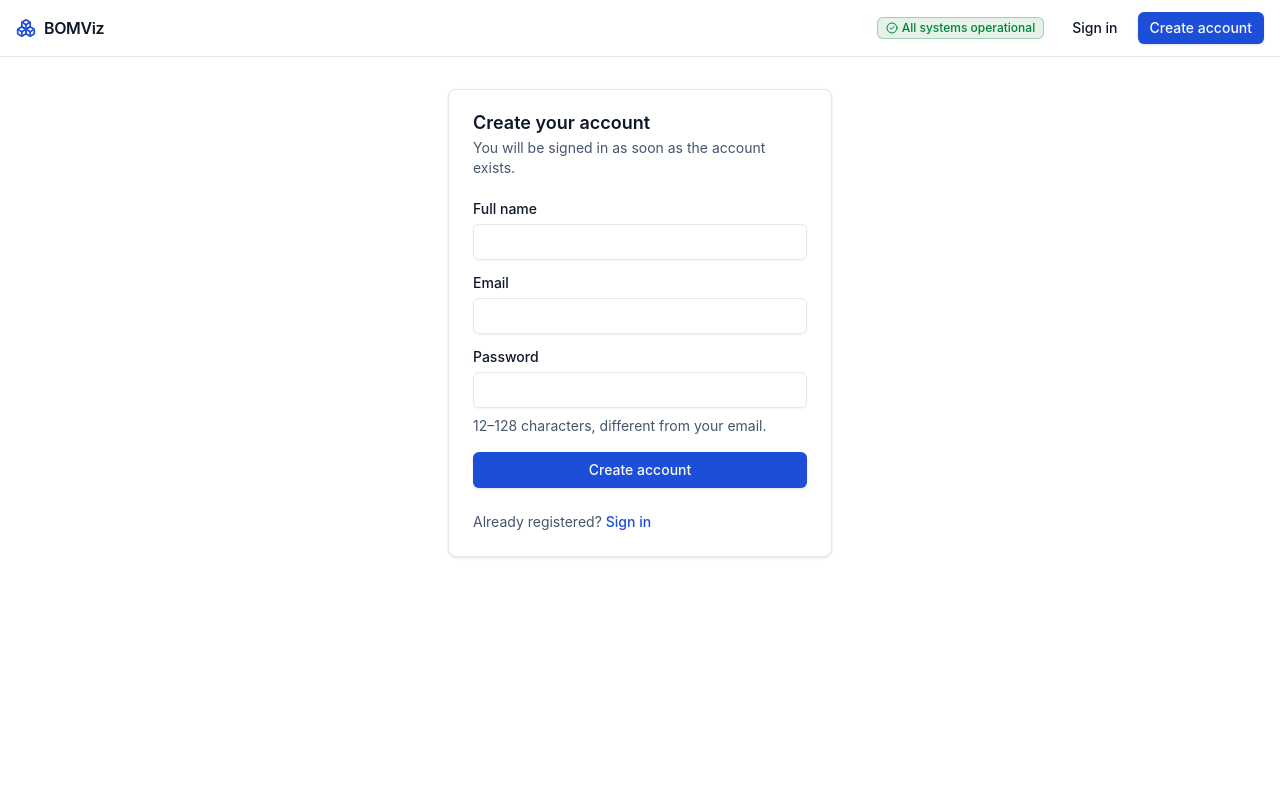
Test: RegisterPage › registers, signs in with the same credentials and lands on the workspaces page
The image size is (1280, 800).
Type "  Ada Lovelace " into the field labelled "Full name". click: (640, 242)
box: [473, 224, 807, 260]
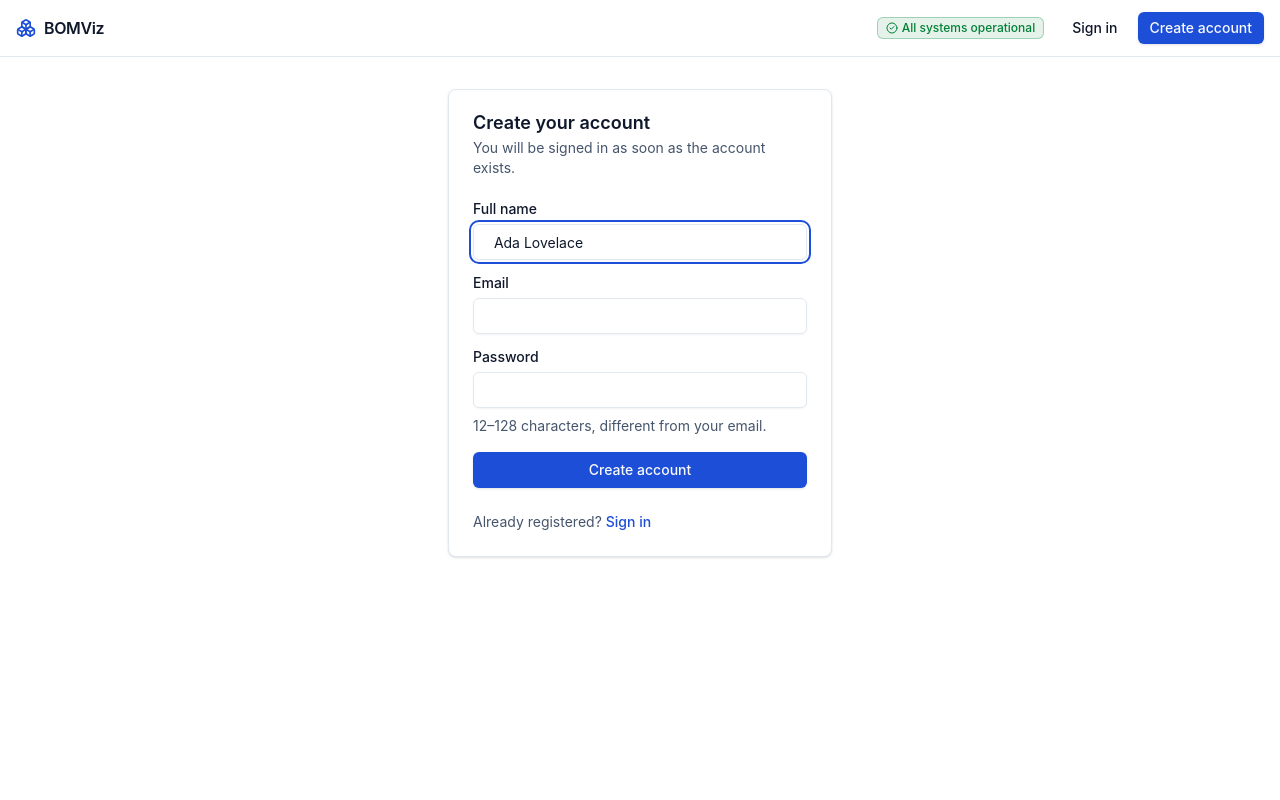
Type "ada@example.com" into the field labelled "Email". click: (640, 316)
box: [473, 298, 807, 334]
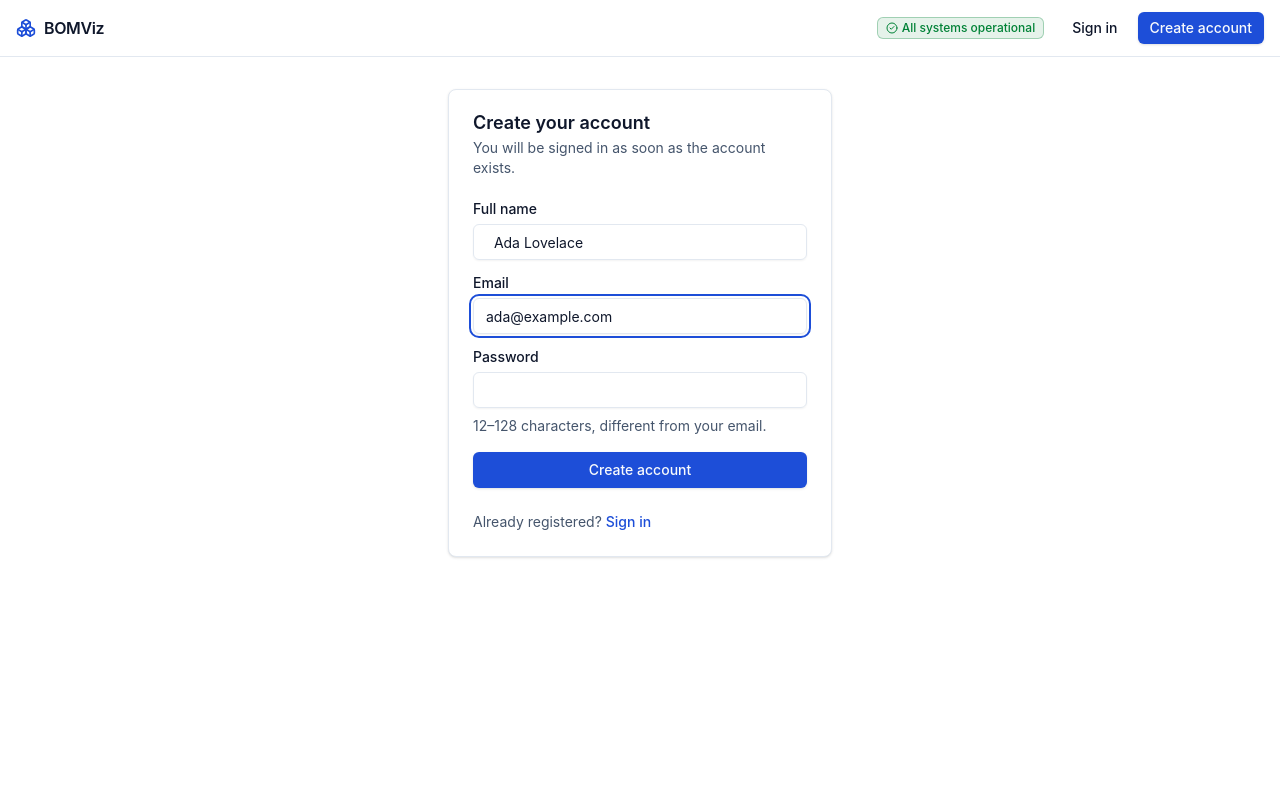
Type "correct horse battery" into the password field labelled "Password". click: (640, 390)
box: [473, 372, 807, 408]
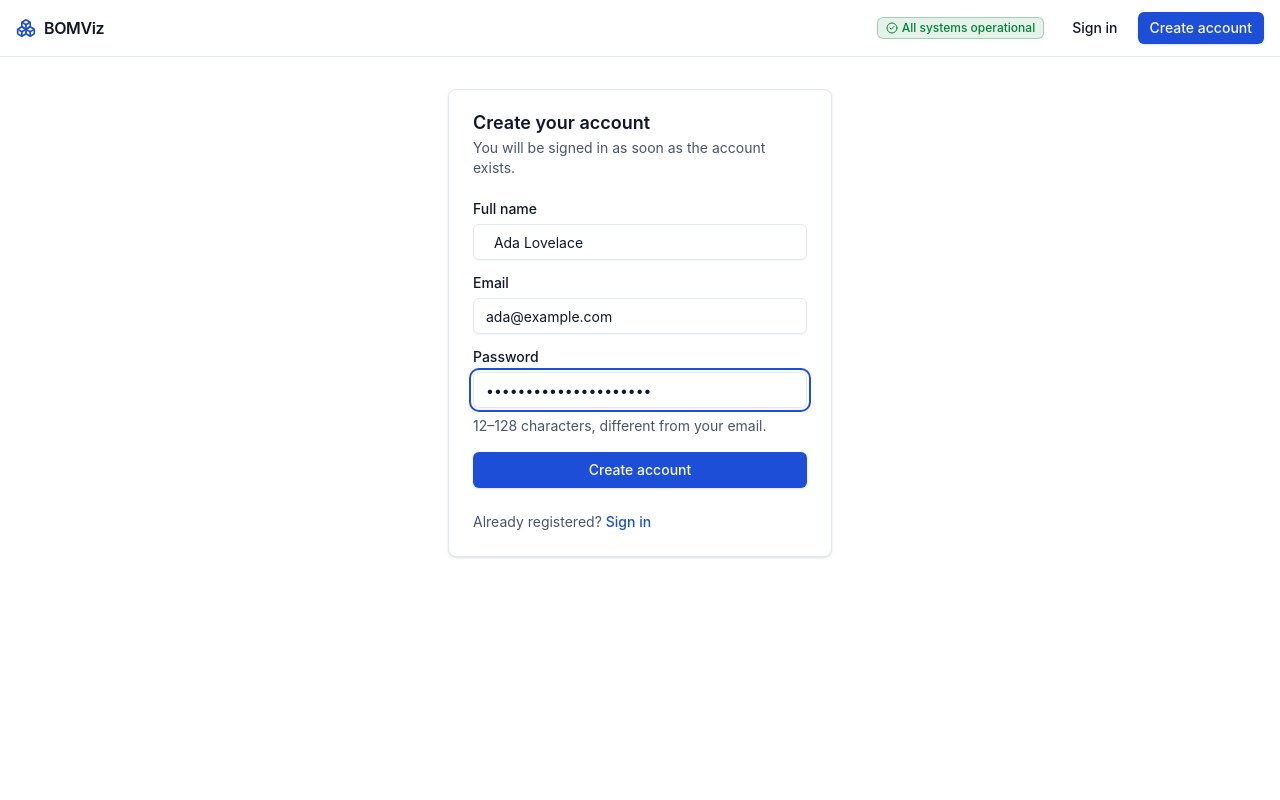
Click the button "Create account". click: (640, 470)
box: [473, 452, 807, 488]
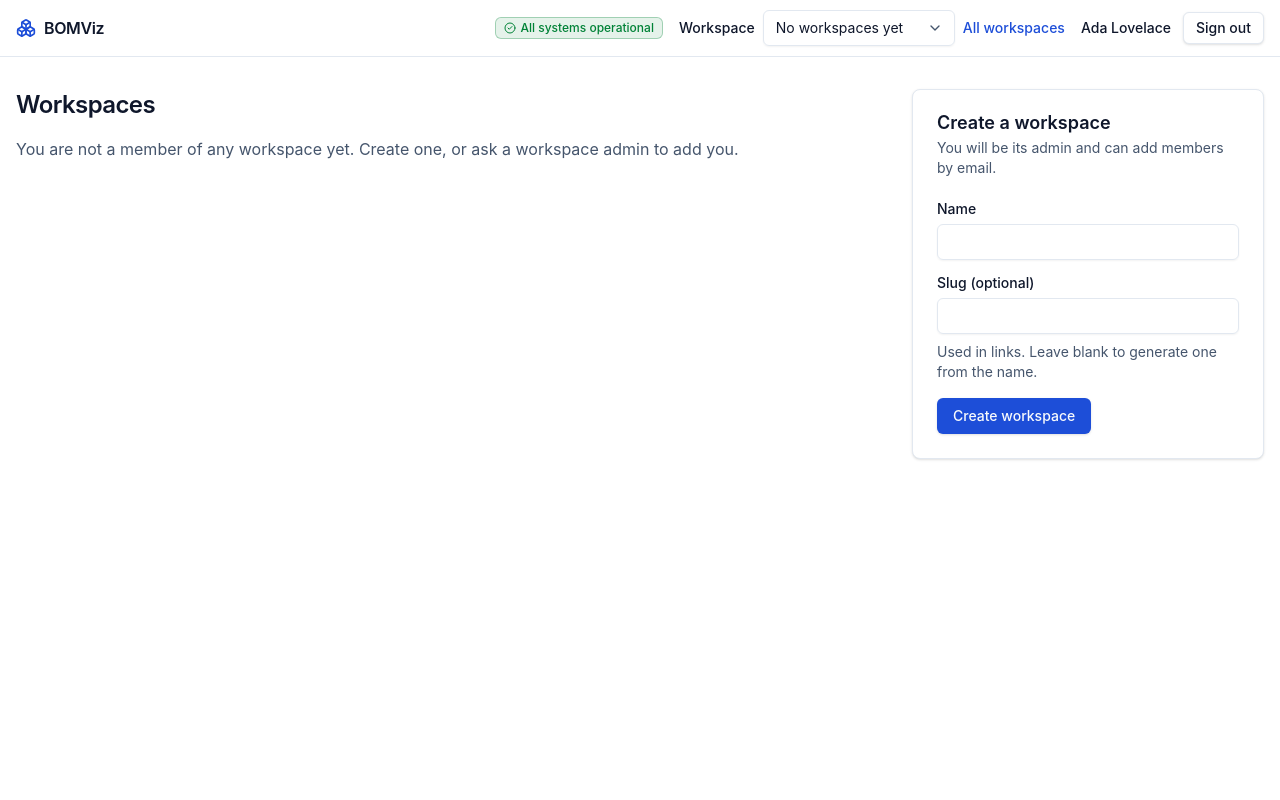
expect the heading "Workspaces" is shown: met, box [16, 90, 155, 119]
